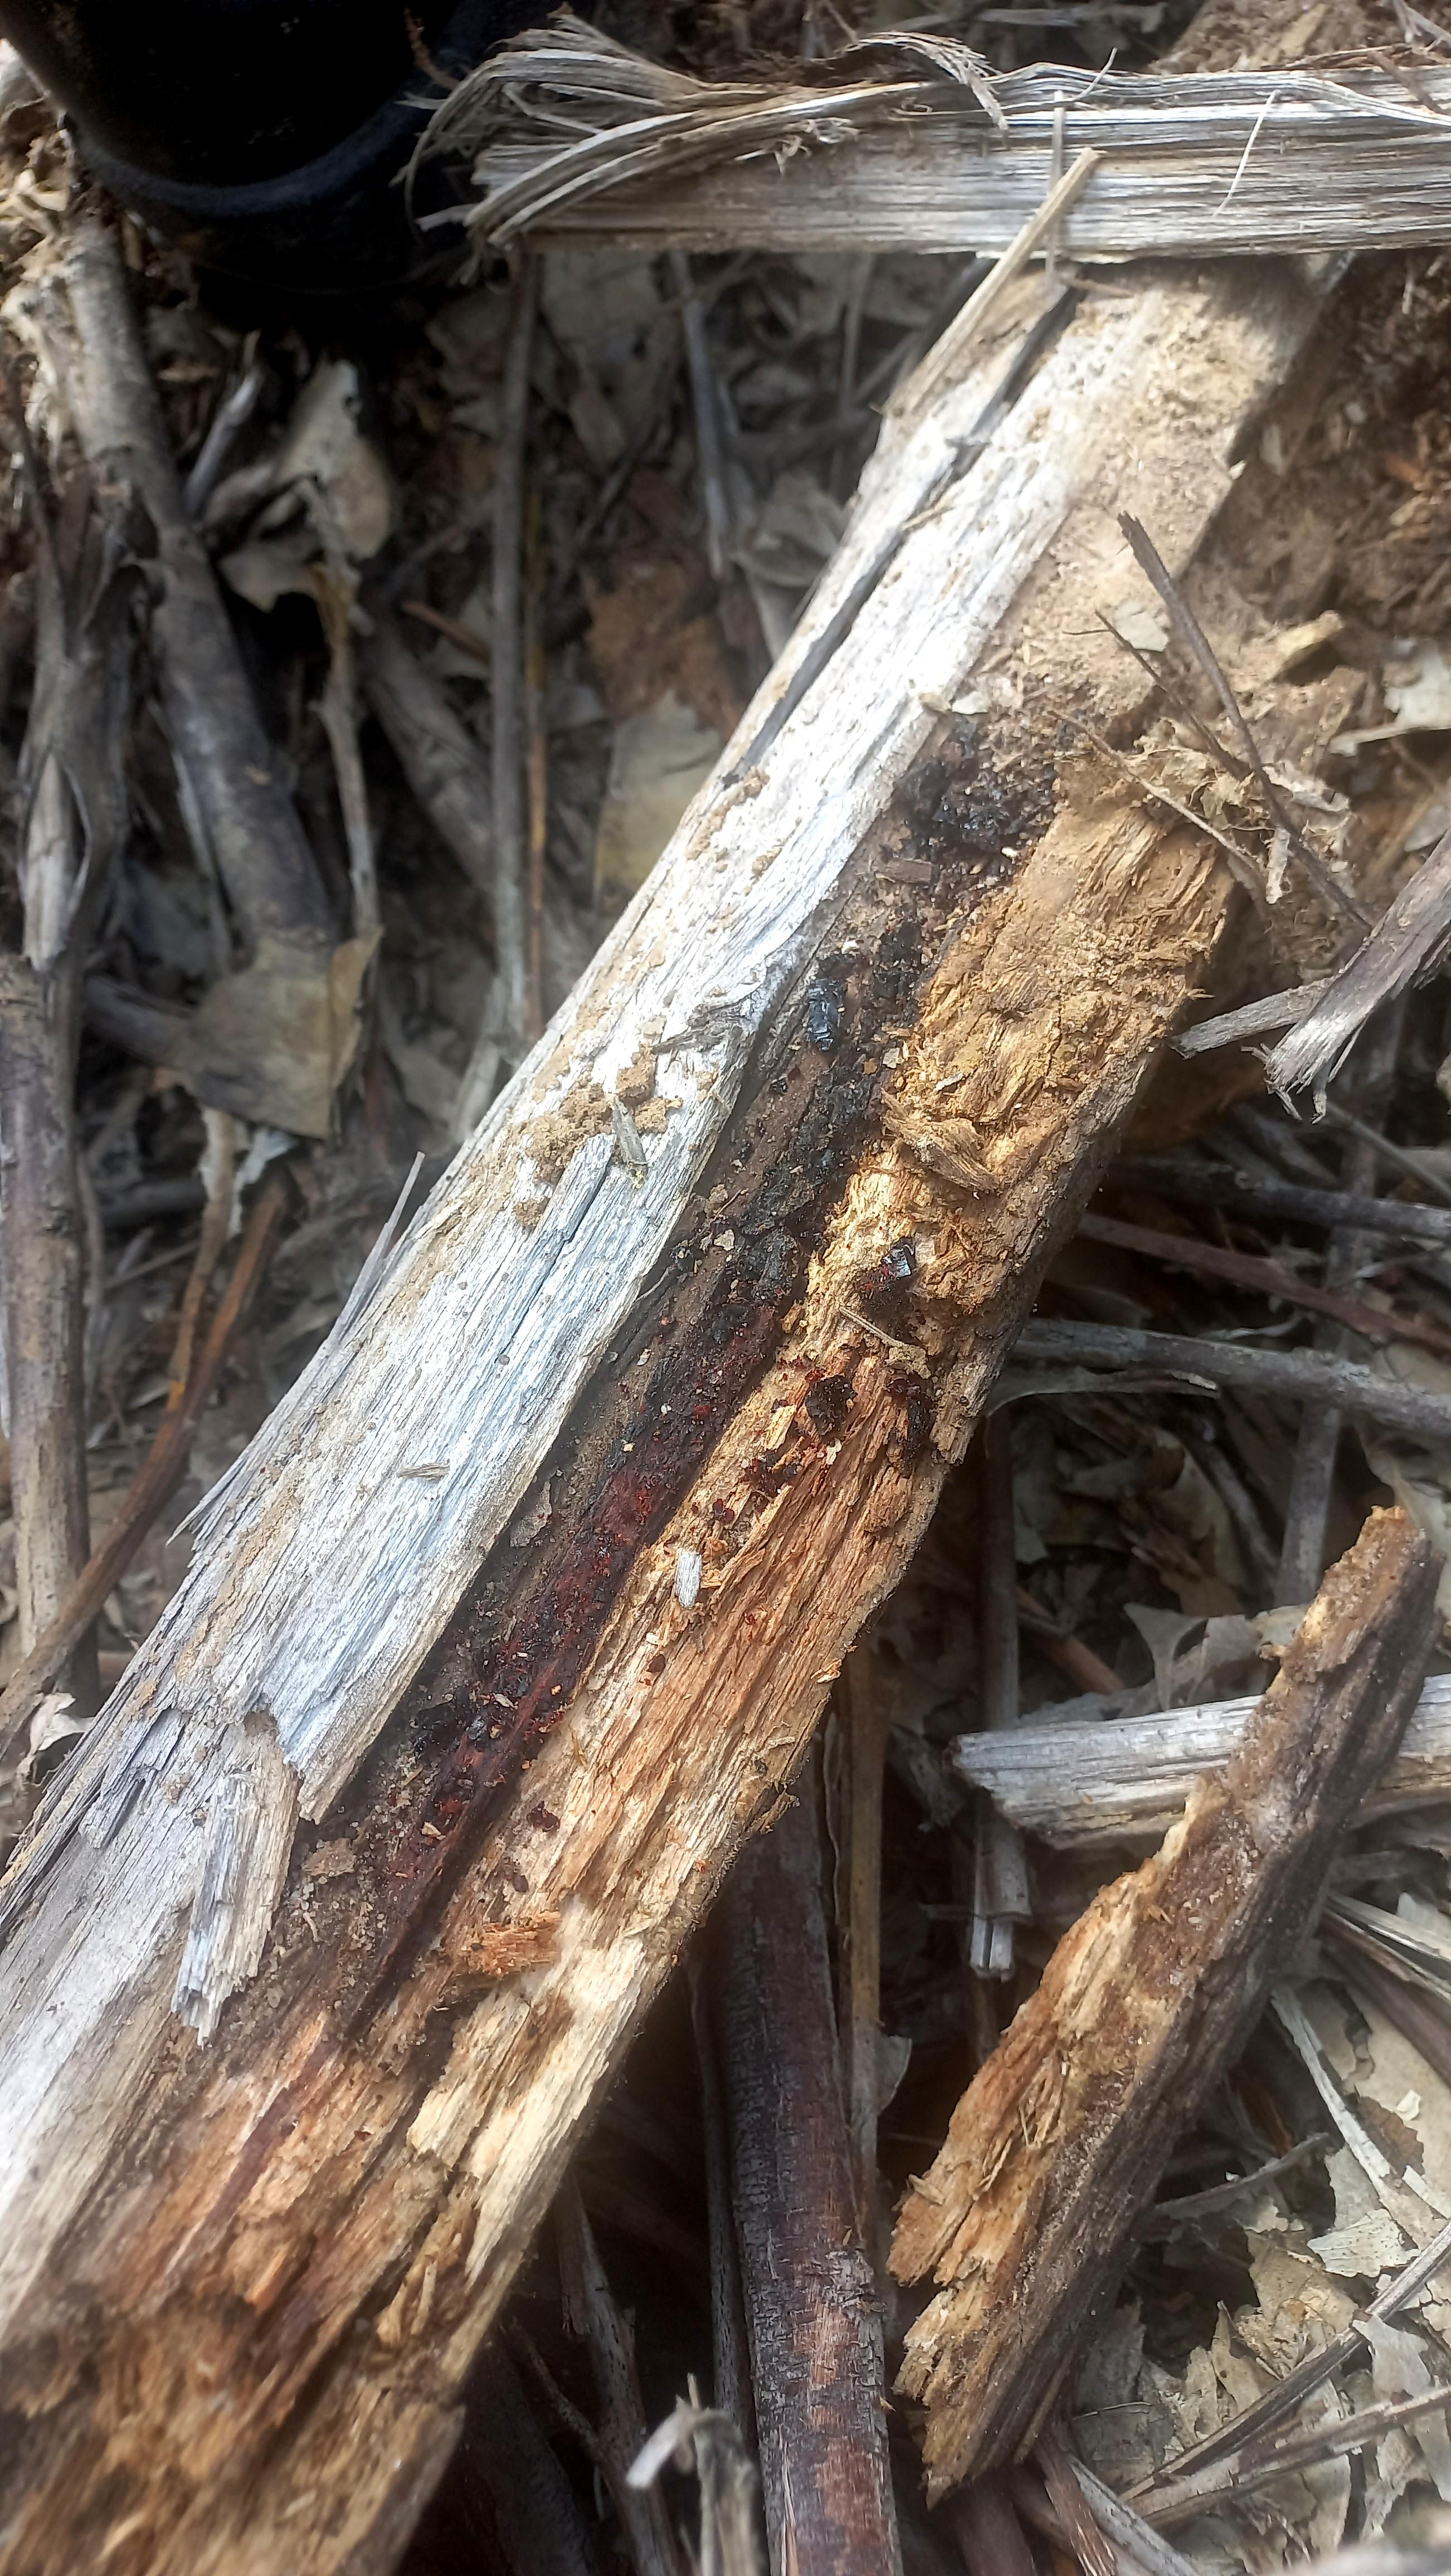Red Root Rot - Secretion: (251, 731, 1090, 2081)
